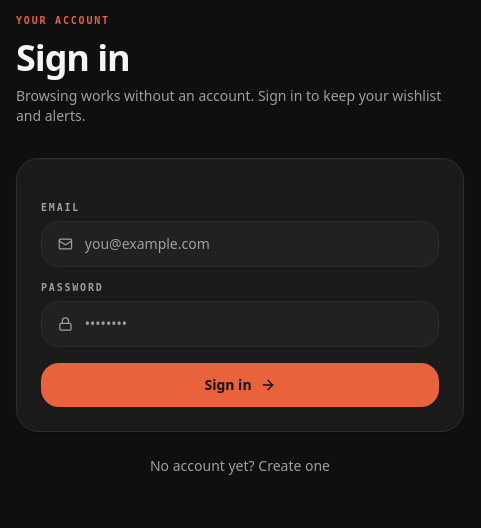
Scenario: SignInPage › asks for a password without changing nonempty sign-in credentials
Type "old-account@example.com" into the field labelled "Email" at (253, 244), box left=85, top=234, right=422, bottom=254
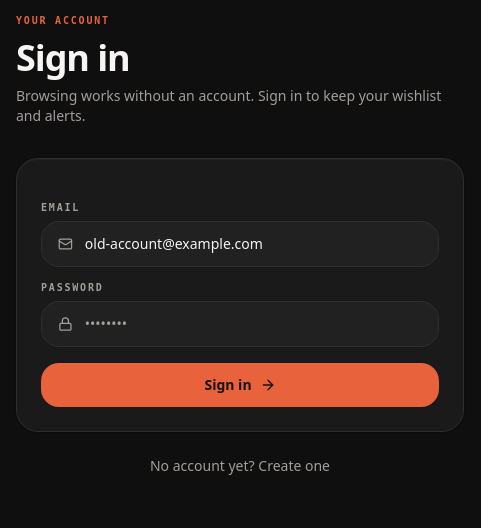
Click the button "Sign in" at (240, 385), box left=41, top=363, right=439, bottom=407
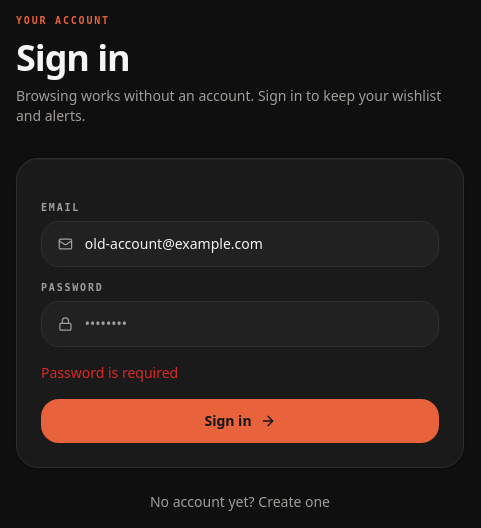
Check: the message reads "Password is required", box left=41, top=363, right=178, bottom=382
